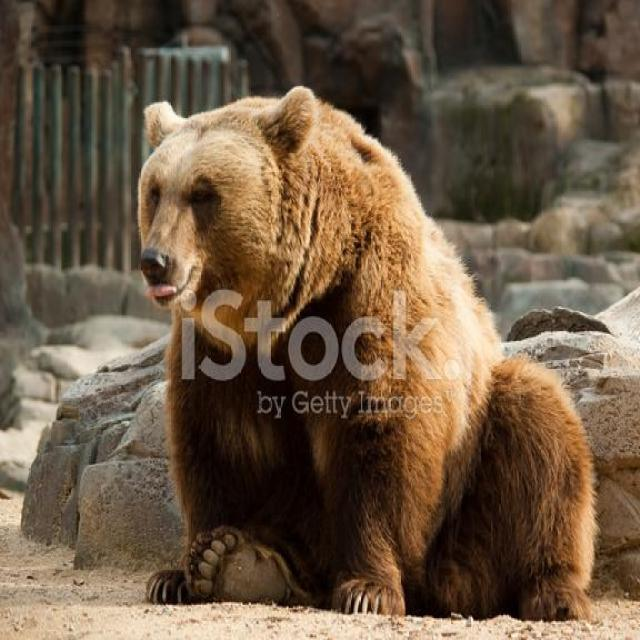Bear: (136, 86, 599, 625)
